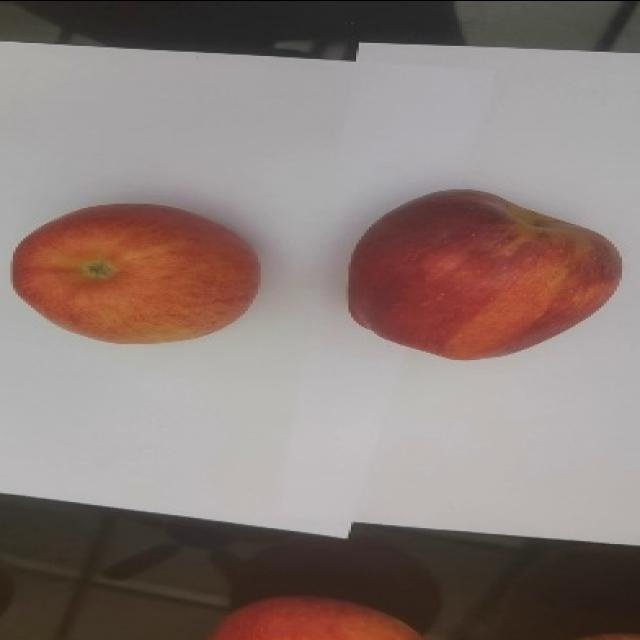Apple: (347, 187, 622, 360), (10, 201, 261, 344), (207, 594, 422, 639)
